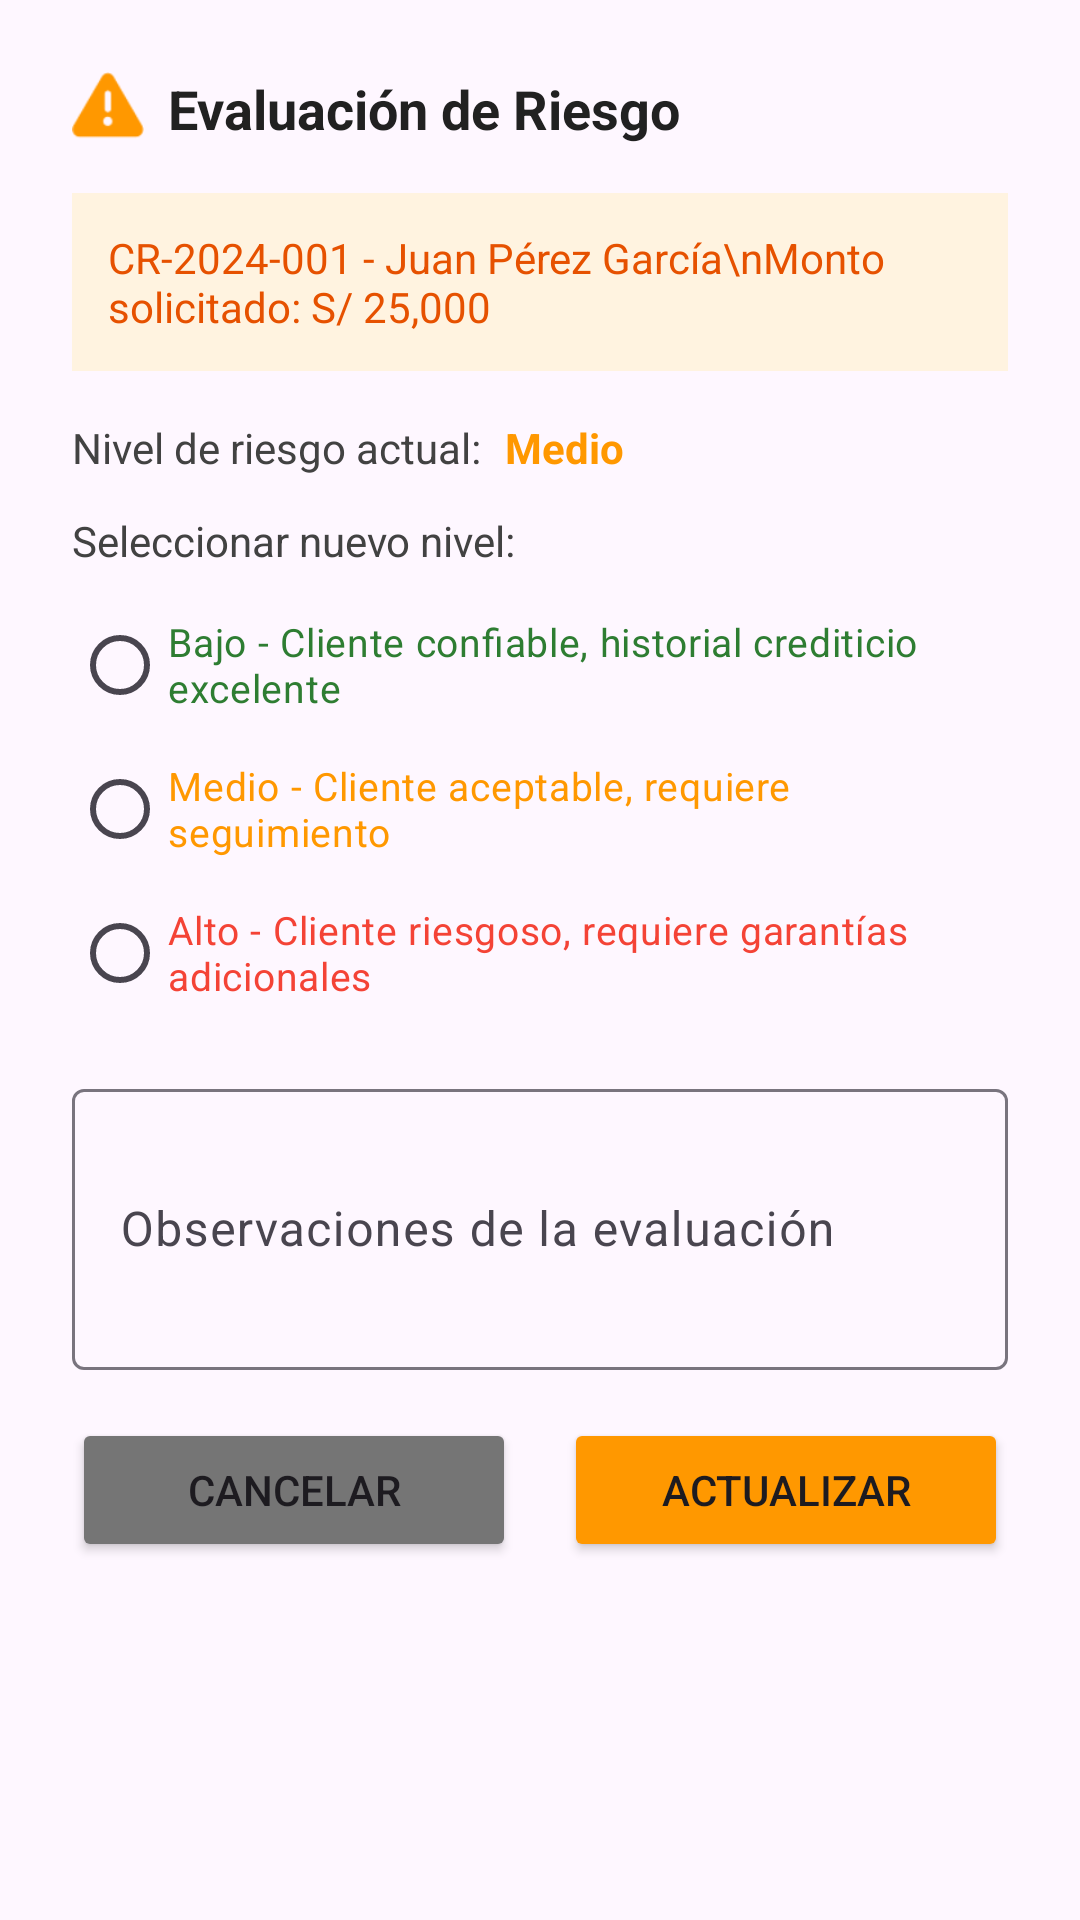

Icons on this 1080×1920 Android screen, each with the point to tap as [x,y]:
alert: [108,105]
